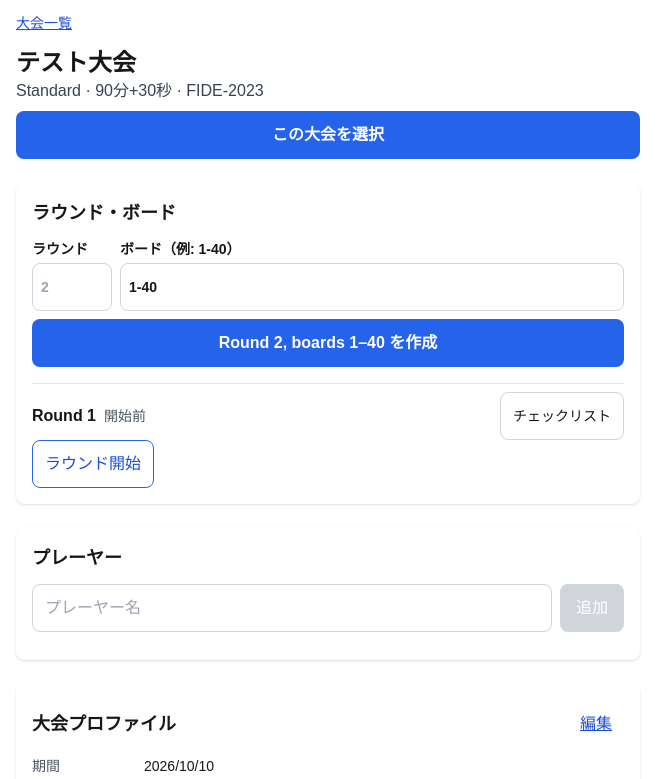
Test: Checklist entry points › tournament detail: links each round's checklist; start round goes through the same warning
Click the button "ラウンド開始" at {"x": 93, "y": 464}, box [32,440,154,488]
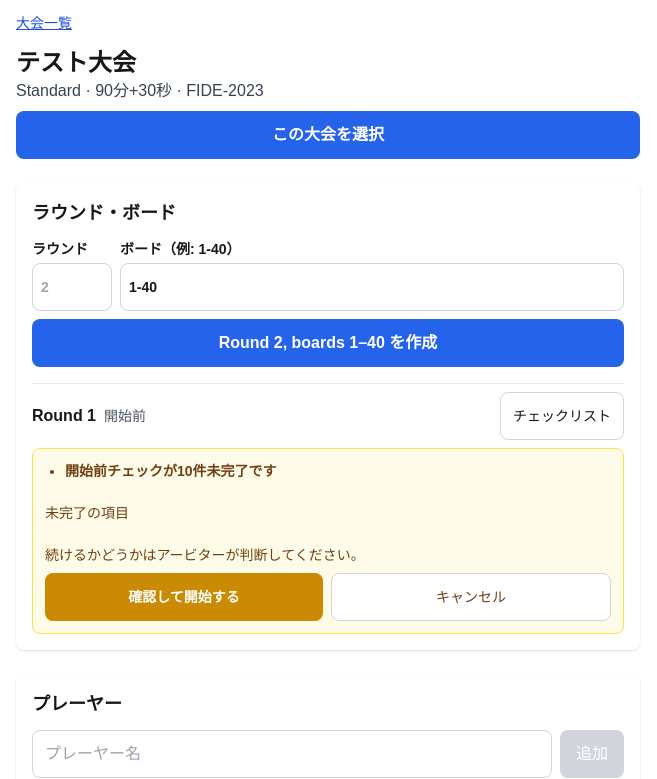
Now the list item "開始前チェックが10件未完了です" is shown, box [65,463,277,479]
Click the button "確認して開始する" at {"x": 184, "y": 597}, box [45,573,323,621]
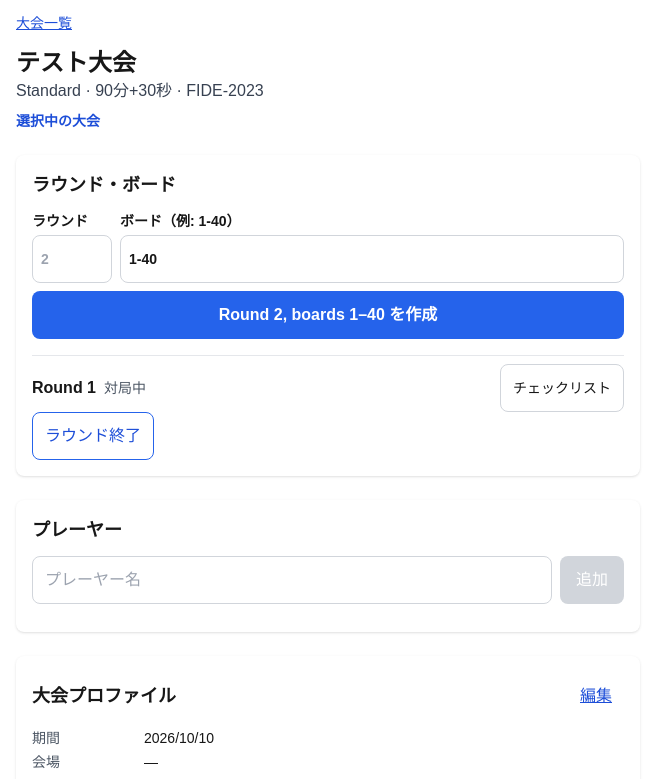
Now the button "ラウンド終了" is shown, box [32,412,154,460]
